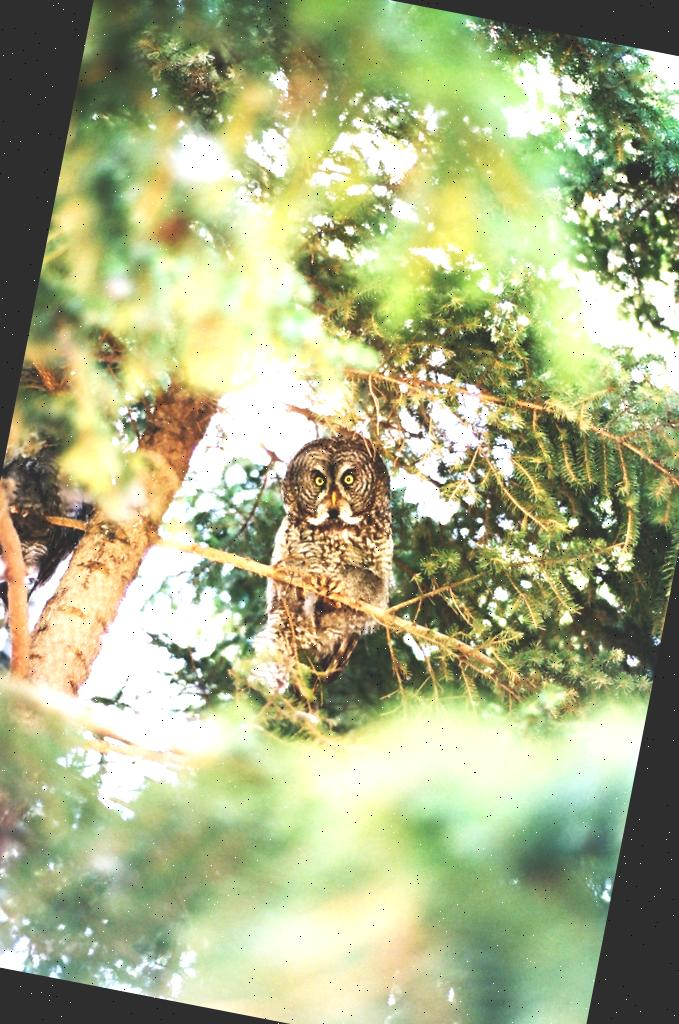Owl: (242, 422, 422, 677)
